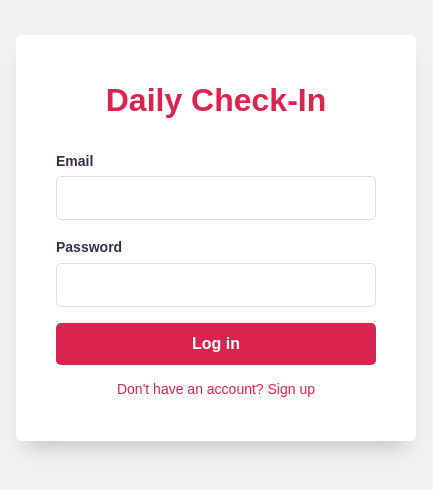
Scenario: LoginPage › displays an error message when login fails
Type "bad@example.com" into the field labelled "Email" at (216, 198), box [56,176,376,220]
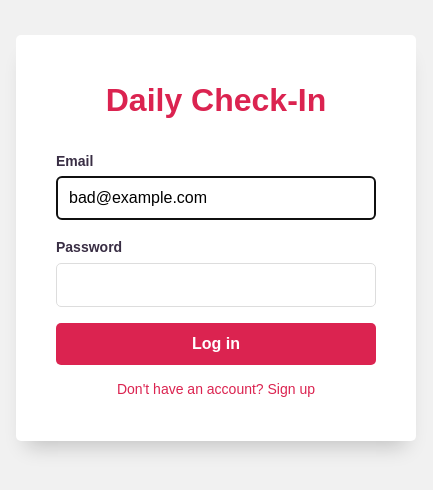
Type "wrong" into the password field labelled "Password" at (216, 285), box [56,263,376,307]
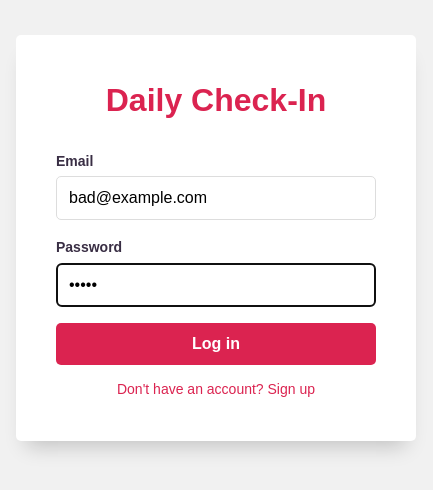
Click the button "Log in" at (216, 344), box [56,323,376,365]
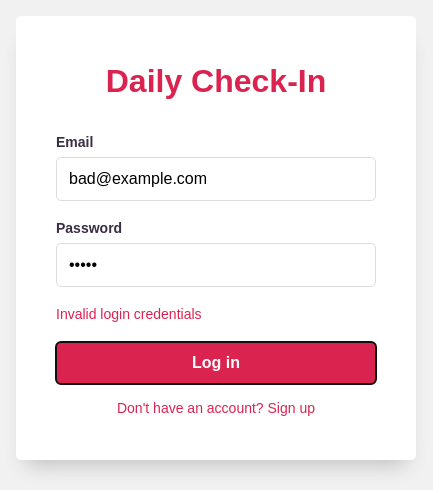
Check: the text "Invalid login credentials" is shown, box [56,306,202,322]
